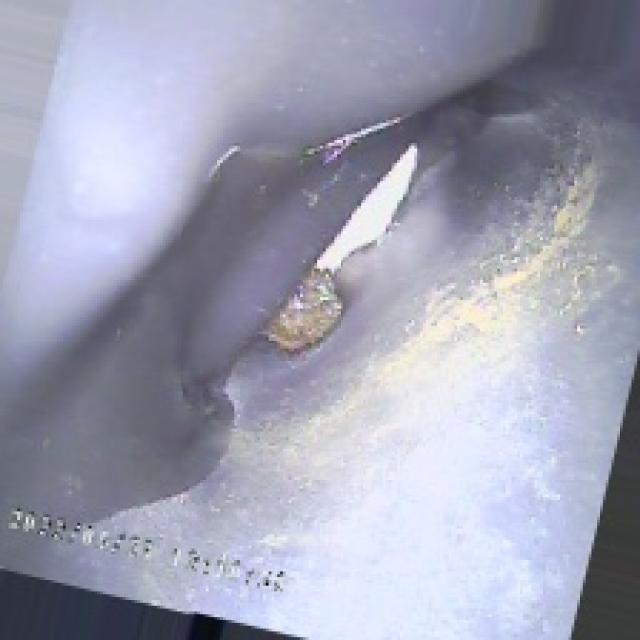shape_deformation: (80, 43, 560, 503)
